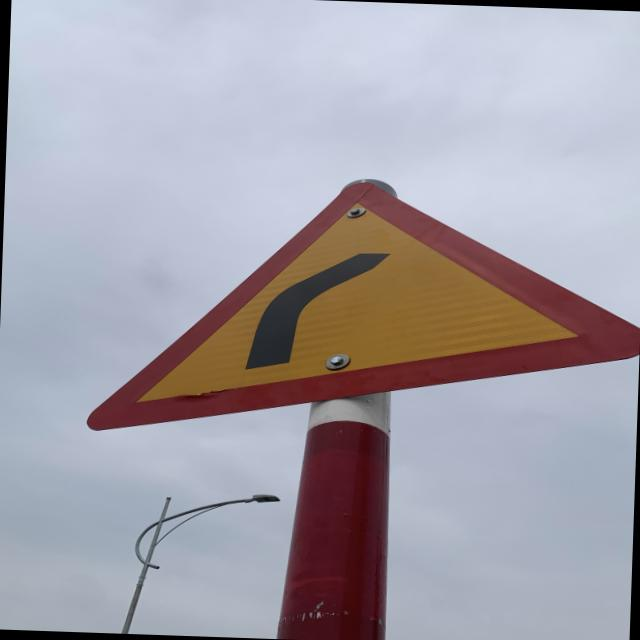Duong_Nguoi_Di_Bo_Cat_Ngang: (85, 170, 640, 451)
